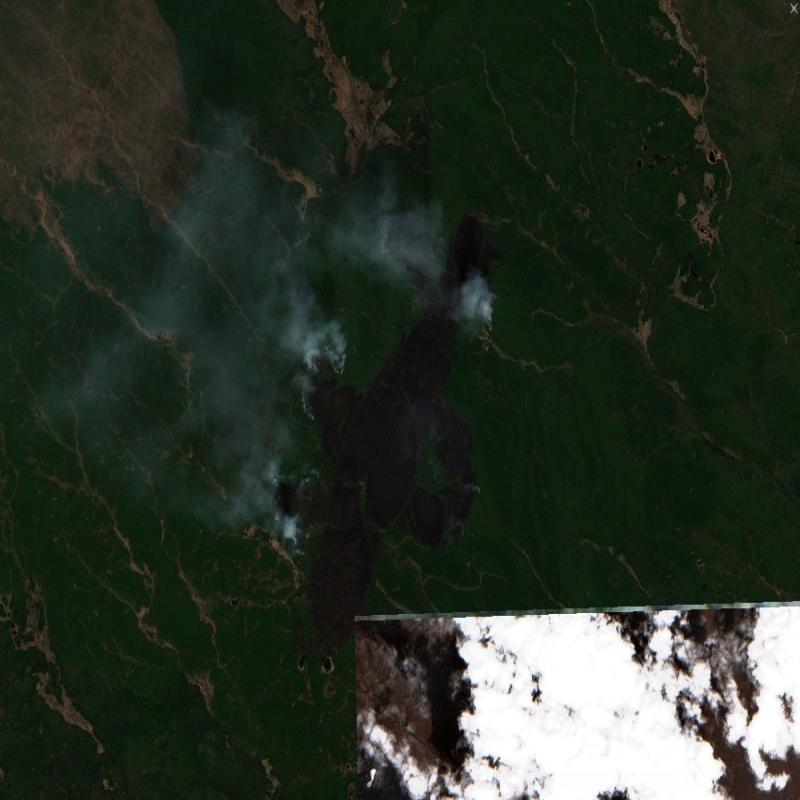fire: (296, 334, 350, 426), (464, 282, 505, 352), (278, 516, 312, 563)
